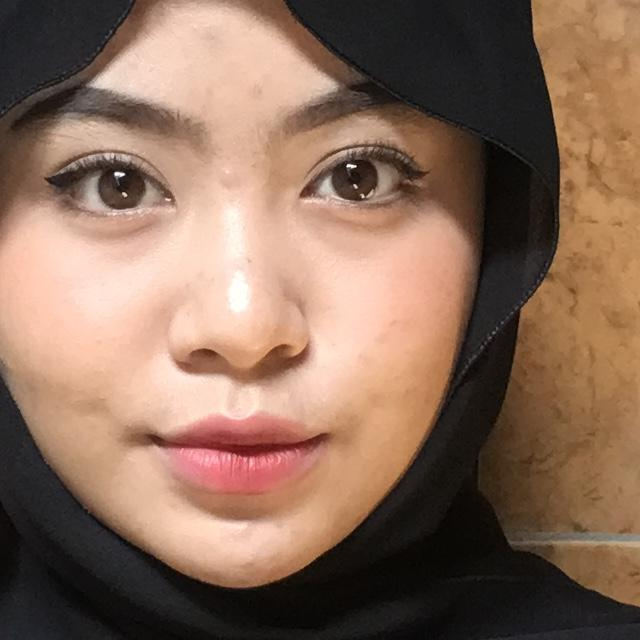ibu: (0, 226, 255, 640)
